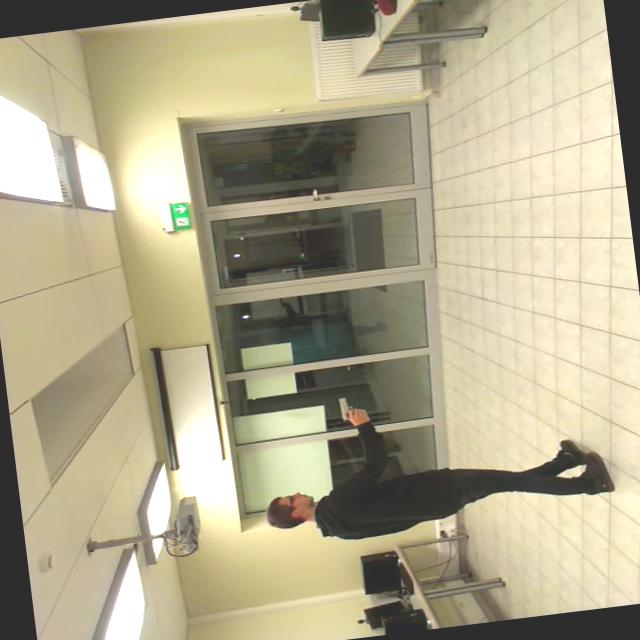handgun: (329, 386, 380, 428)
